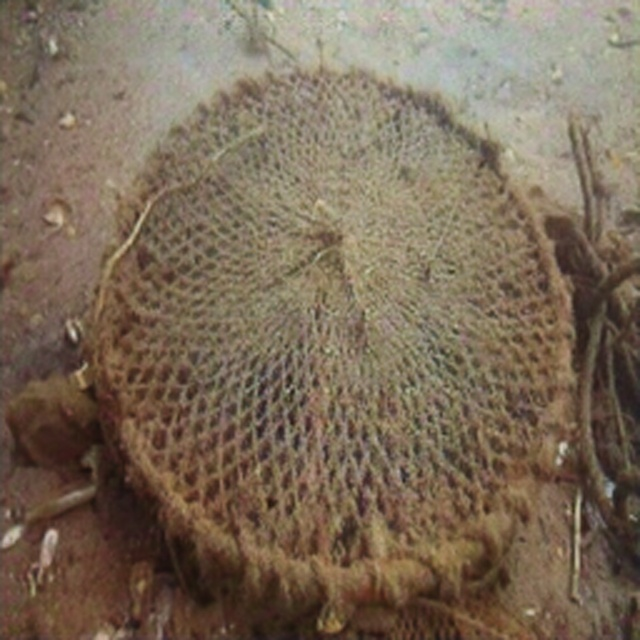mine: (88, 62, 575, 608)
